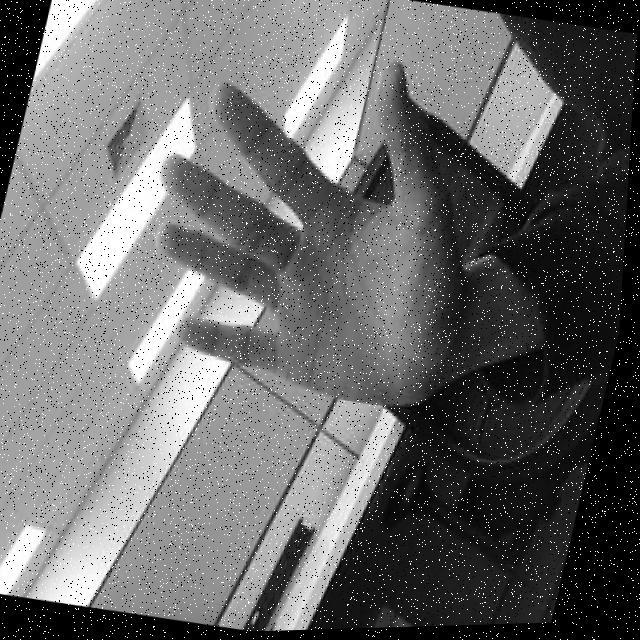no-gloves: (116, 21, 514, 431)
